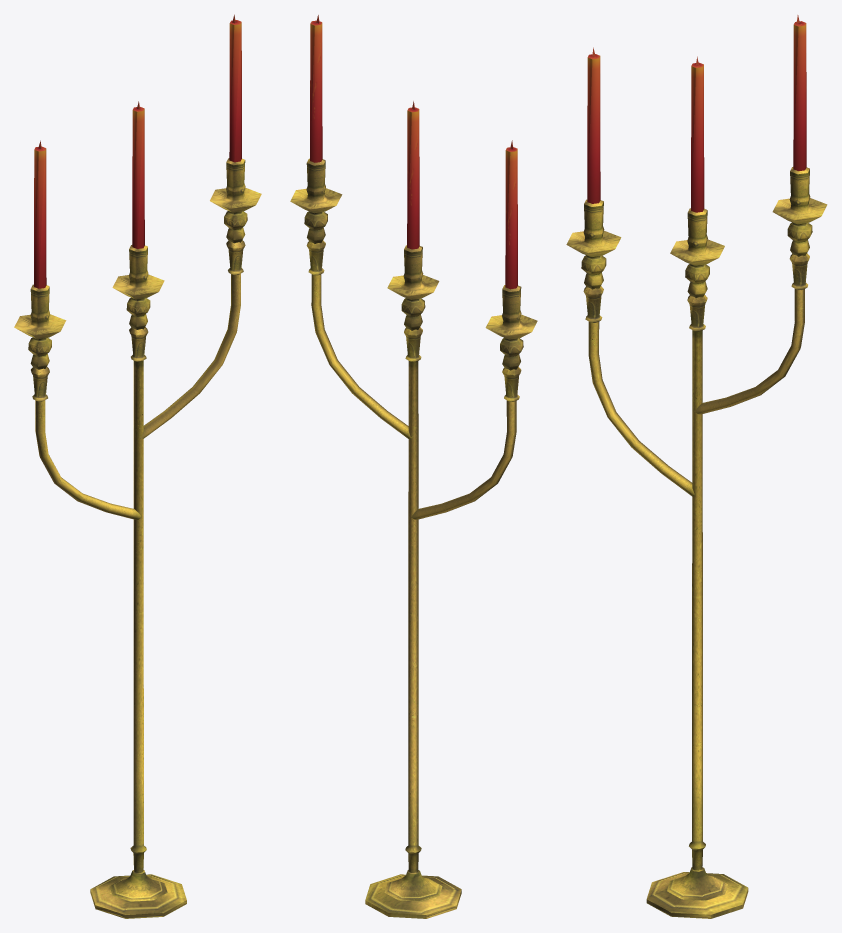
The model's file is Chandelier.fbx.
The picture shows the model from 3 angles, left to right: view 1: azimuth 30°, elevation 25°; view 2: azimuth 150°, elevation 25°; view 3: azimuth 330°, elevation 25°; orthographic projection. The views are drawn at different scales.
Visible parts, largest first — view 1: Mesh Object; view 2: Mesh Object; view 3: Mesh Object.
Part boxes in pixels (x1,y1,x2,y2): Mesh Object: (14, 14, 261, 918); Mesh Object: (290, 15, 537, 918); Mesh Object: (566, 15, 827, 918).
Bounding box in the file's own units: 0.9153 × 3.11 × 0.327.
